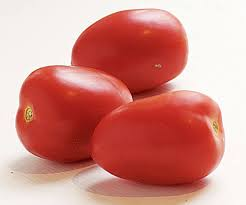tomato: (101, 89, 227, 191), (11, 61, 122, 168), (61, 4, 194, 87)
